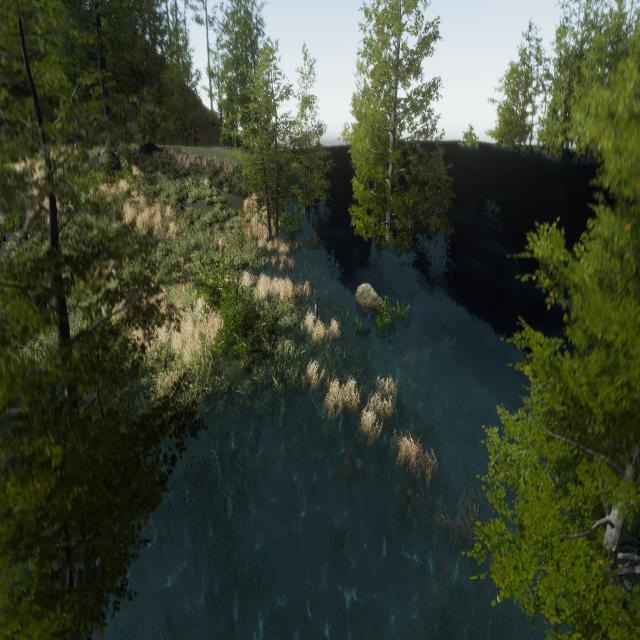Human: (310, 282, 328, 352)
